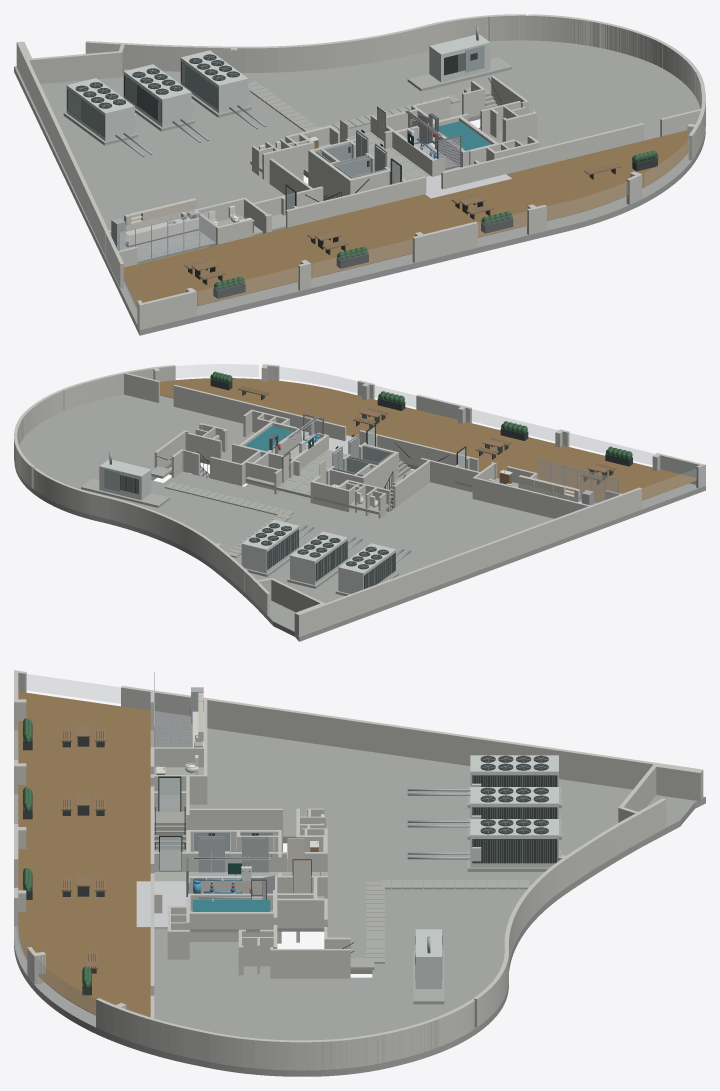
The model's file is roof-full.glb.
3 views of the same model, one above another, from view 1: azimuth 30°, elevation 25°; view 2: azimuth 150°, elevation 25°; view 3: azimuth 270°, elevation 25° (orthographic). The views are drawn at different scales.
Visible parts, largest first — view 1: SOURCE_NATIVE | Roof | raised concrete top36.79, SOURCE_NATIVE | Roof finish v06 | RF_DECK_REAR, ROOF_CUTAWAY wall source path 124-71, ROOF_CUTAWAY wall source path 90-44, ROOF_CUTAWAY wall source path 204-88, ROOF_CUTAWAY wall source path 90-45, ROOF_CUTAWAY wall source path 207-89, ROOF_CUTAWAY wall source path 123-68, ROOF_CUTAWAY wall source path 123-70, Chiller 1 equipment body, Chiller 2 equipment body, Chiller 3 equipment body (+39 smaller); view 2: SOURCE_NATIVE | Roof | raised concrete top36.79, SOURCE_NATIVE | Roof finish v06 | RF_DECK_REAR, ROOF_CUTAWAY wall source path 204-88, ROOF_CUTAWAY wall source path 124-71, ROOF_CUTAWAY wall source path 90-44, ROOF_CUTAWAY wall source path 110-59, ROOF_CUTAWAY wall source path 90-45, ROOF_CUTAWAY wall source path 123-68, Chiller 3 equipment body, Generator equipment enclosure, Chiller 2 equipment body, ROOF_CUTAWAY wall source path 735-119 (+31 smaller); view 3: SOURCE_NATIVE | Roof | raised concrete top36.79, SOURCE_NATIVE | Roof finish v06 | RF_DECK_REAR, ROOF_CUTAWAY wall source path 204-88, ROOF_CUTAWAY wall source path 110-59, ROOF_CUTAWAY wall source path 12-12, ROOF_CUTAWAY wall source path 124-71, ROOF_CUTAWAY wall source path 47-29, ROOF_CUTAWAY wall source path 123-70, Chiller 3 coil grille.001, ROOF_CUTAWAY wall source path 43-27, Chiller 3 equipment body, PUMP | Arch_Exterior_Roof_Pad (+30 smaller).
Boxes of the visible parts, <box> form: SOURCE_NATIVE | Roof | raised concrete top36.79: <box>14,40,705,335</box>; SOURCE_NATIVE | Roof finish v06 | RF_DECK_REAR: <box>124,130,688,308</box>; ROOF_CUTAWAY wall source path 124-71: <box>237,26,424,72</box>; ROOF_CUTAWAY wall source path 90-44: <box>441,123,644,189</box>; ROOF_CUTAWAY wall source path 204-88: <box>25,60,108,255</box>; ROOF_CUTAWAY wall source path 90-45: <box>295,176,426,225</box>; ROOF_CUTAWAY wall source path 207-89: <box>32,51,122,83</box>; ROOF_CUTAWAY wall source path 123-68: <box>423,14,524,51</box>; ROOF_CUTAWAY wall source path 123-70: <box>531,14,606,47</box>; Chiller 1 equipment body: <box>66,78,134,141</box>; Chiller 2 equipment body: <box>123,64,191,127</box>; Chiller 3 equipment body: <box>180,50,248,113</box>; SOURCE_NATIVE | Roof | raised concrete top36.79: <box>14,394,705,641</box>; SOURCE_NATIVE | Roof finish v06 | RF_DECK_REAR: <box>160,378,696,502</box>; ROOF_CUTAWAY wall source path 204-88: <box>326,506,591,625</box>; ROOF_CUTAWAY wall source path 124-71: <box>98,494,215,565</box>; ROOF_CUTAWAY wall source path 90-44: <box>173,385,346,440</box>; ROOF_CUTAWAY wall source path 110-59: <box>21,380,90,437</box>; ROOF_CUTAWAY wall source path 90-45: <box>359,430,470,467</box>; ROOF_CUTAWAY wall source path 123-68: <box>33,468,99,516</box>; Chiller 3 equipment body: <box>241,519,299,573</box>; Generator equipment enclosure: <box>99,459,151,500</box>; Chiller 2 equipment body: <box>290,531,347,585</box>; ROOF_CUTAWAY wall source path 735-119: <box>517,488,590,518</box>; SOURCE_NATIVE | Roof | raised concrete top36.79: <box>14,728,705,1076</box>; SOURCE_NATIVE | Roof finish v06 | RF_DECK_REAR: <box>18,691,150,1017</box>; ROOF_CUTAWAY wall source path 204-88: <box>207,698,654,789</box>; ROOF_CUTAWAY wall source path 110-59: <box>197,1029,341,1070</box>; ROOF_CUTAWAY wall source path 12-12: <box>273,949,350,978</box>; ROOF_CUTAWAY wall source path 124-71: <box>504,858,566,967</box>; ROOF_CUTAWAY wall source path 47-29: <box>186,808,282,851</box>; ROOF_CUTAWAY wall source path 123-70: <box>408,1001,473,1056</box>; Chiller 3 coil grille.001: <box>472,839,557,863</box>; ROOF_CUTAWAY wall source path 43-27: <box>190,912,277,941</box>; Chiller 3 equipment body: <box>470,819,558,867</box>; PUMP | Arch_Exterior_Roof_Pad: <box>136,881,186,929</box>.
Bounding box in the file's own units: 49.72 × 8.44 × 39.08.
